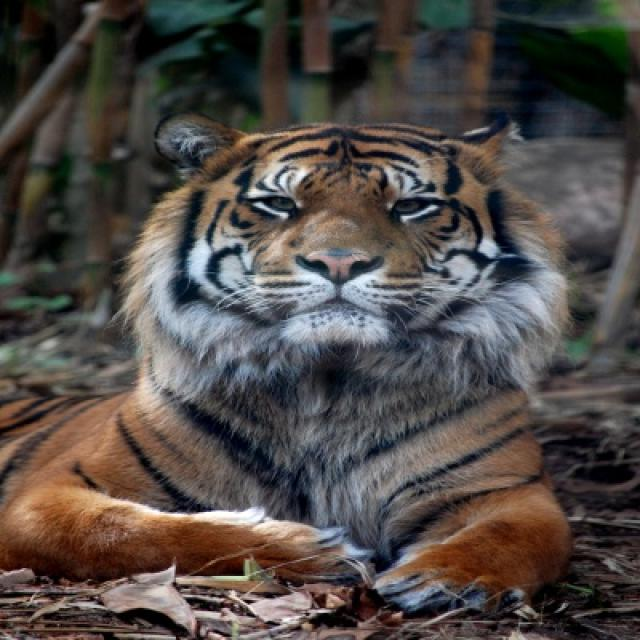Tiger: (2, 113, 570, 603)
